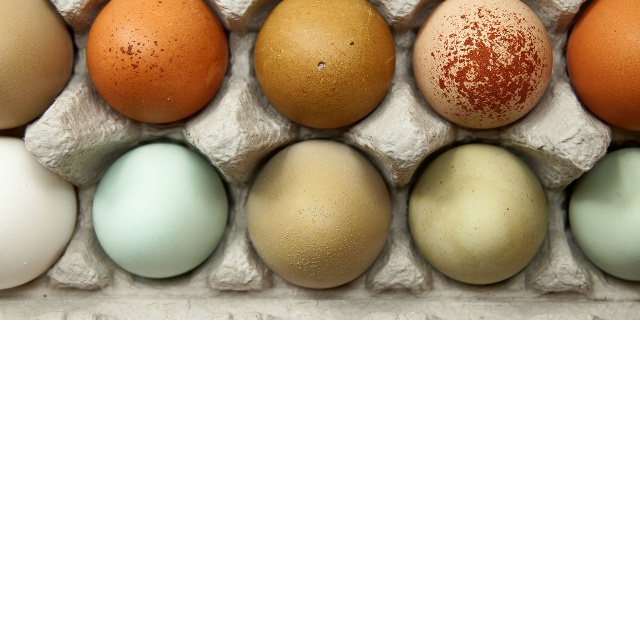trung_ga: (408, 1, 556, 131), (85, 1, 231, 126)
